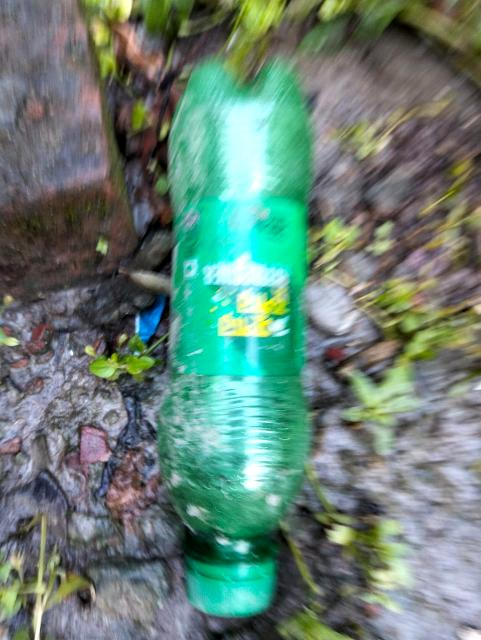bottle: (159, 41, 326, 621)
